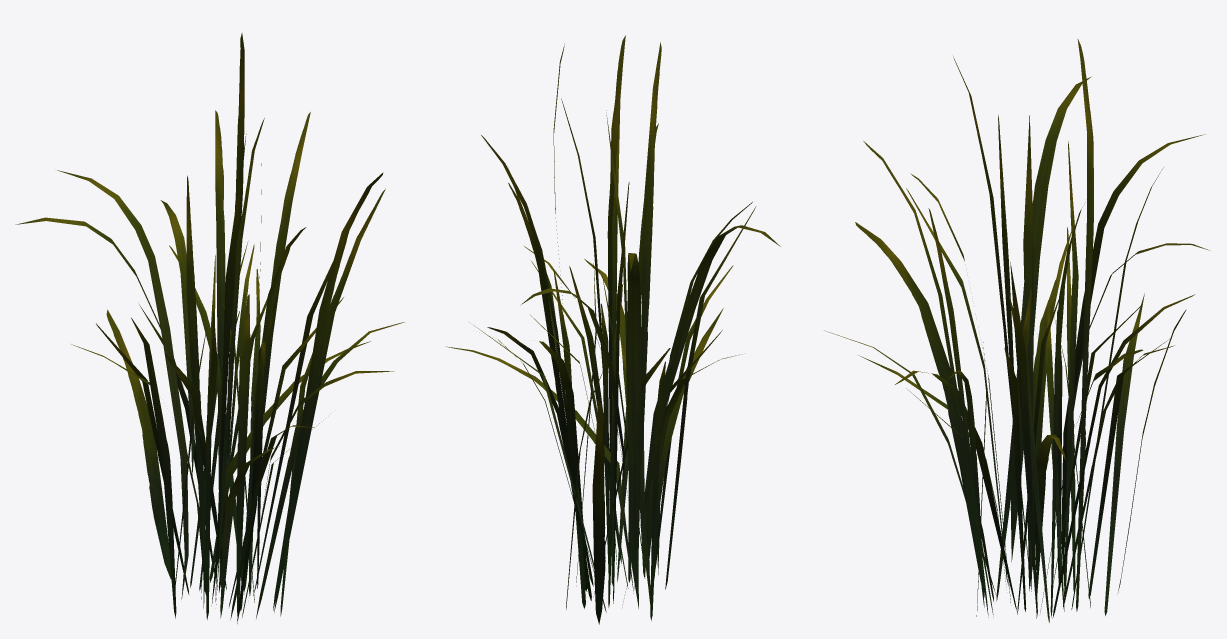
Rendered from grass4.fbx.
3 renders of one model, left to right at view 1: azimuth 30°, elevation 25°; view 2: azimuth 150°, elevation 25°; view 3: azimuth 270°, elevation 25°, orthographic. The views are drawn at different scales.
Visible parts, largest first — view 1: SM_020_Grass_04a; view 2: SM_020_Grass_04a; view 3: SM_020_Grass_04a.
Part boxes in pixels (x1,y1,x2,y2): SM_020_Grass_04a: [15, 33, 404, 623]; SM_020_Grass_04a: [446, 35, 780, 624]; SM_020_Grass_04a: [824, 39, 1209, 622].
Size of the model in its own units: 71.59 by 112 by 67.16.
